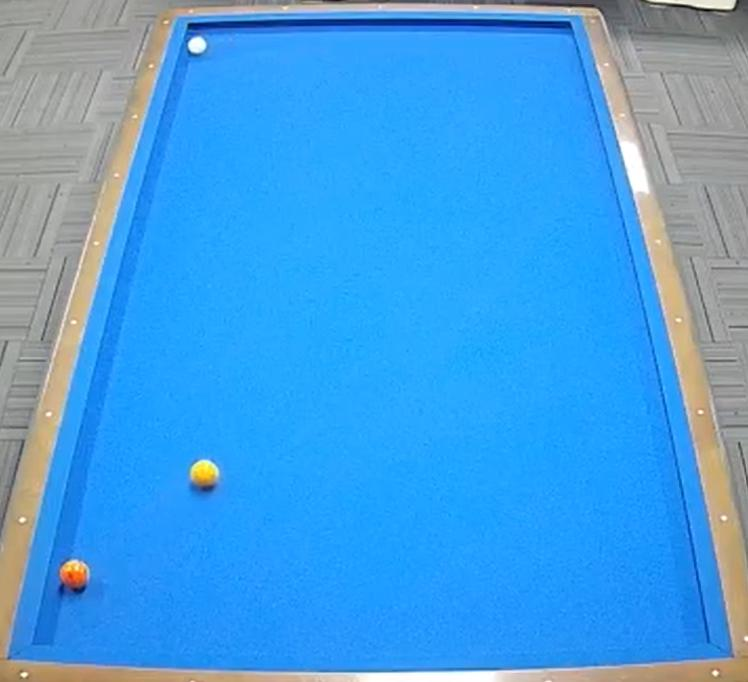orange ball: (56, 551, 94, 595)
white ball: (182, 32, 211, 61)
yellow ball: (186, 454, 223, 496)
